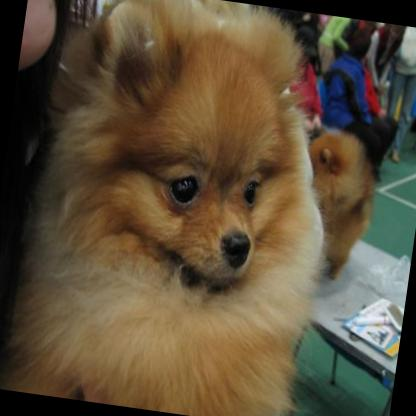Pomeranian: (1, 0, 354, 416)
